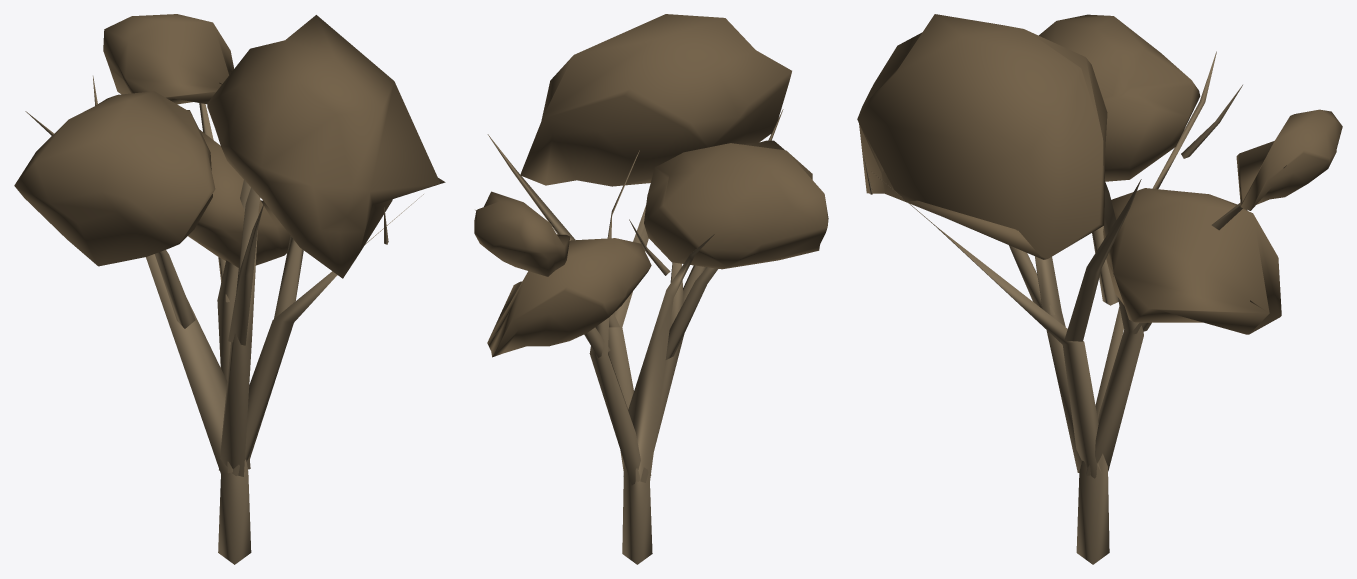
File: Tree small DQ.fbx
3 renders of one model, left to right at view 1: azimuth 30°, elevation 25°; view 2: azimuth 150°, elevation 25°; view 3: azimuth 270°, elevation 25°, orthographic. The views are drawn at different scales.
Visible parts, largest first — view 1: Icosphere.003; view 2: Icosphere.003; view 3: Icosphere.003.
Part boxes in pixels (<box>): Icosphere.003: <box>14,14,445,564</box>; Icosphere.003: <box>474,14,828,564</box>; Icosphere.003: <box>857,14,1342,564</box>.
Bounding box in the file's own units: 130 × 188 × 154.
